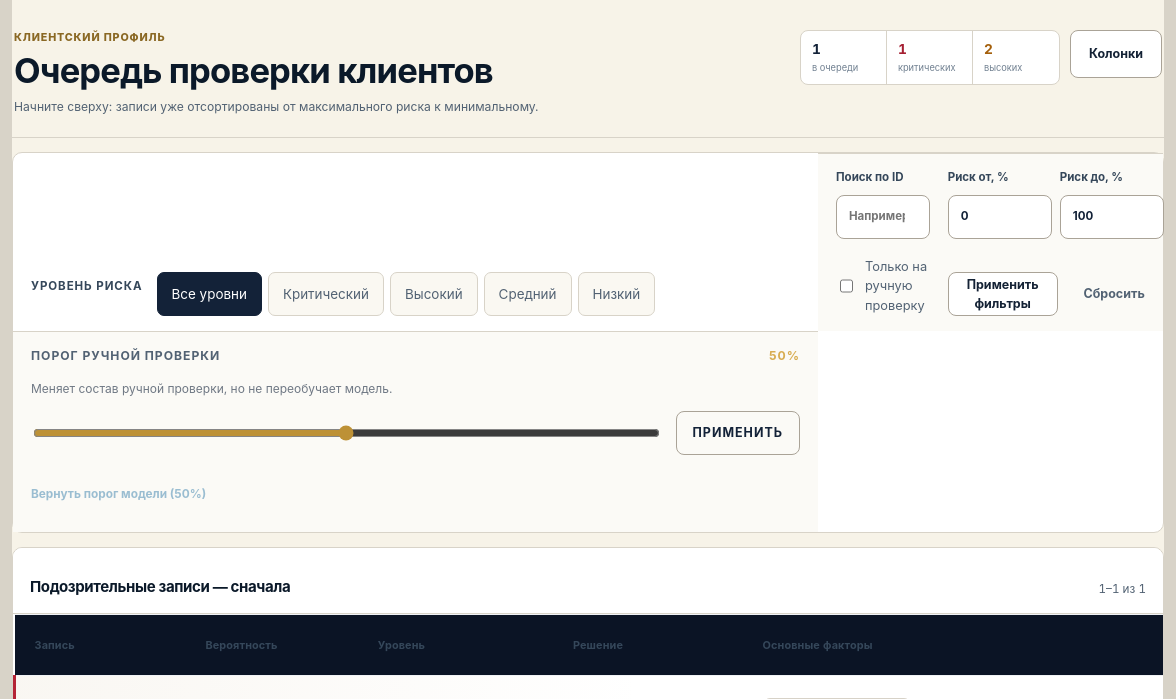
Test case: RiskRecordsPage › allows hiding columns while retaining at least one column
Click the heading "Колонки" at (1116, 54), box [1070,30,1162,78]
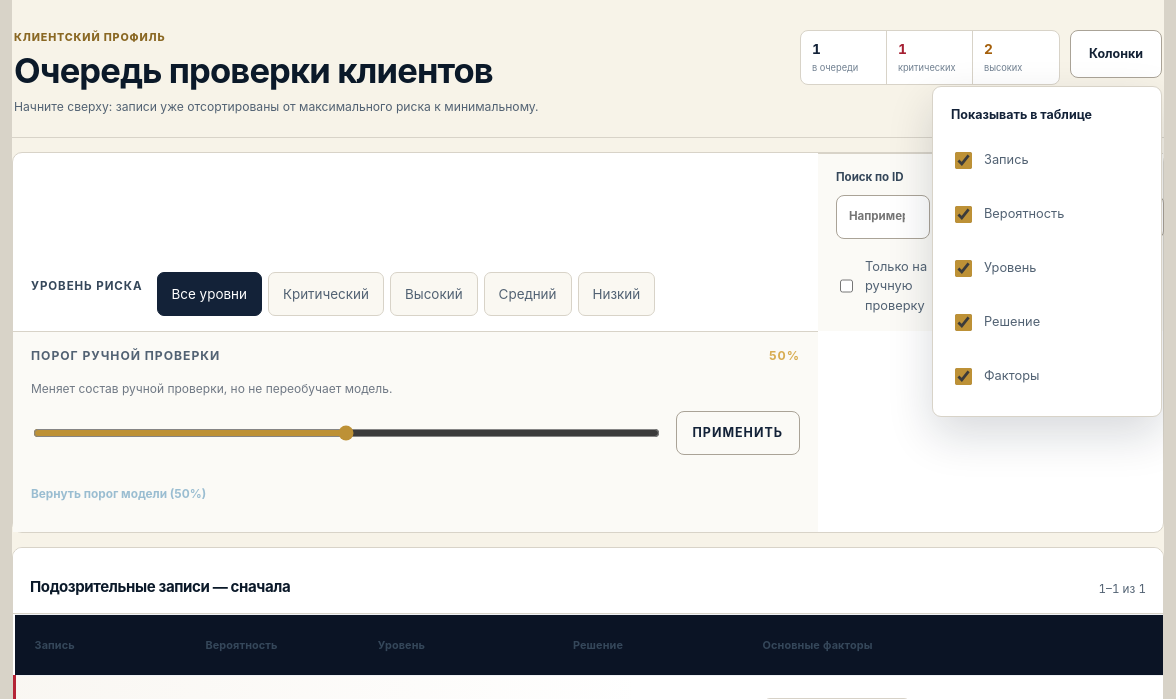
Click the checkbox labelled "Факторы" at (964, 376), box [955,368,972,385]
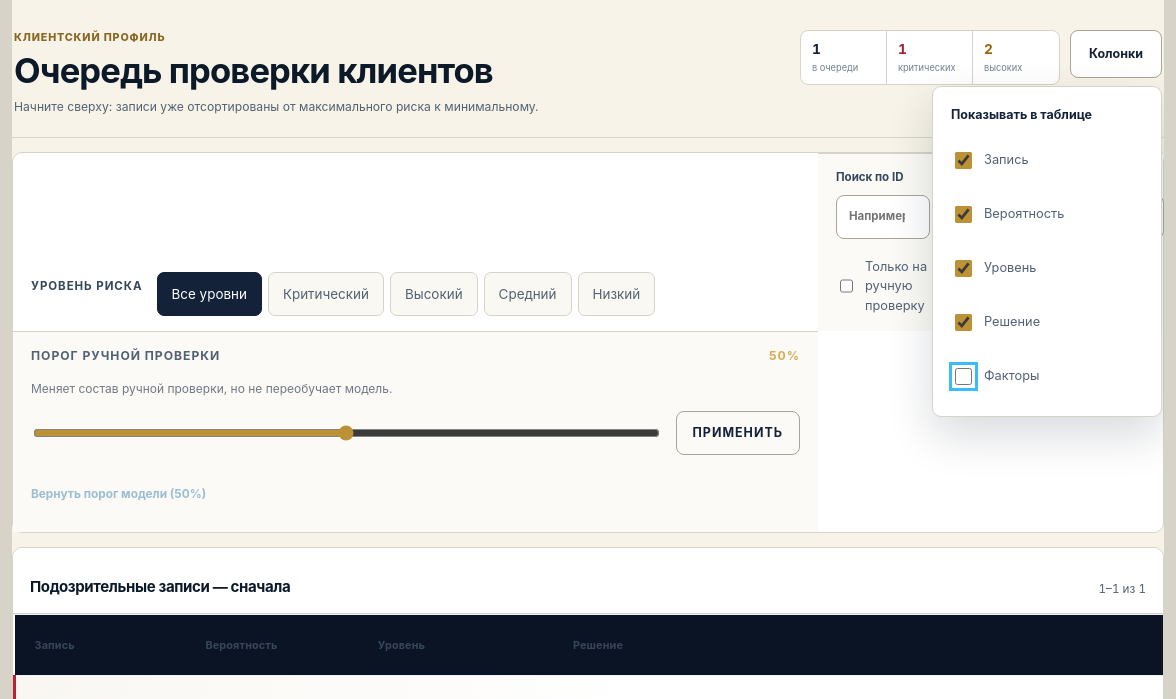
Expected: the column heading "Запись" is shown, [14,614,185,676]
Expected: the column heading "Основные факторы" is gone
